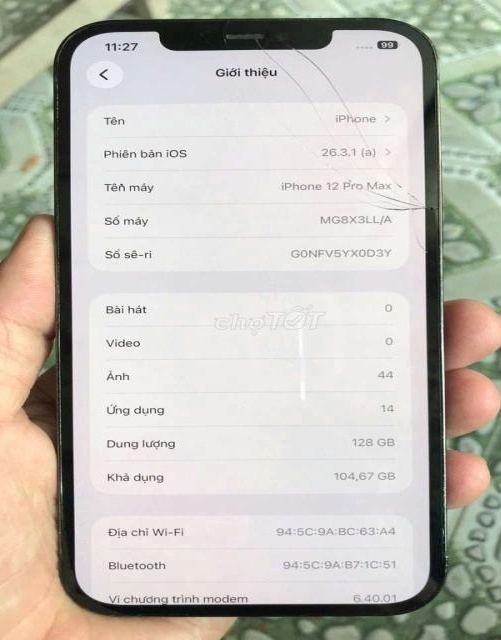physical_damage: (224, 14, 452, 258)
